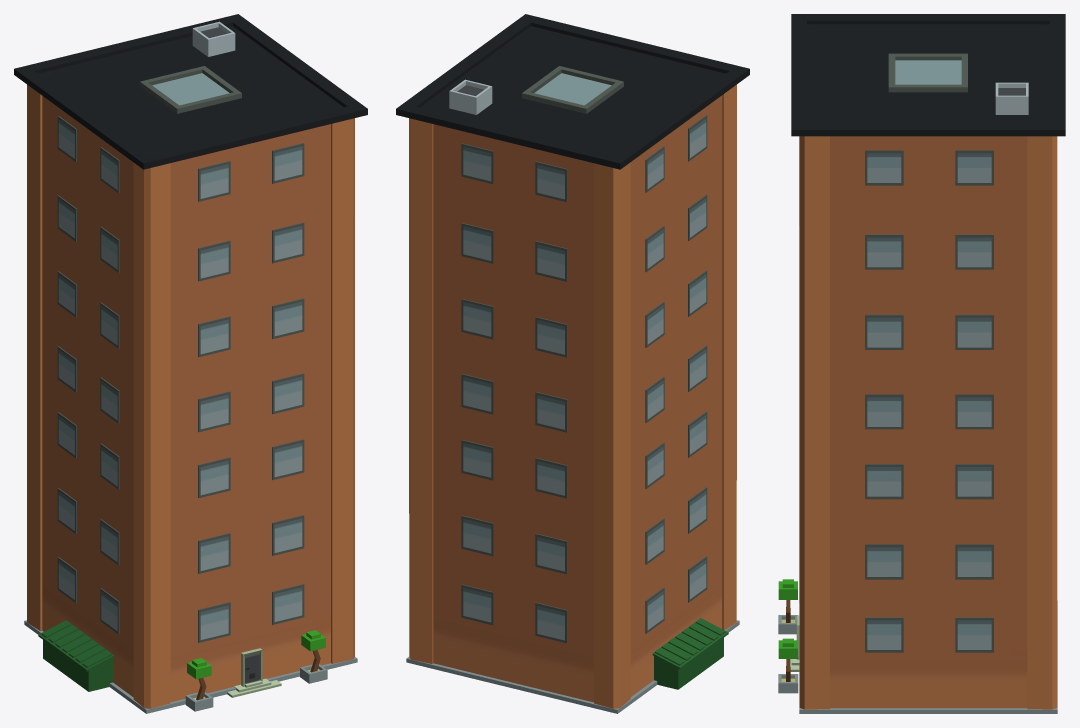
The model's file is building_4.glb.
The picture shows the model from 3 angles, left to right: view 1: azimuth 30°, elevation 25°; view 2: azimuth 150°, elevation 25°; view 3: azimuth 270°, elevation 25°; orthographic projection. The views are drawn at different scales.
Parts seen in each view (by area): view 1: Basic Highest Orange; view 2: Basic Highest Orange; view 3: Basic Highest Orange.
Part boxes in pixels (bbox=[...]): Basic Highest Orange: bbox=[14, 14, 367, 713]; Basic Highest Orange: bbox=[396, 14, 749, 713]; Basic Highest Orange: bbox=[778, 14, 1065, 713].
Bounding box in the file's own units: 0.9231 × 2.07 × 0.8956.
Materials: 1 (1 with a texture image).
